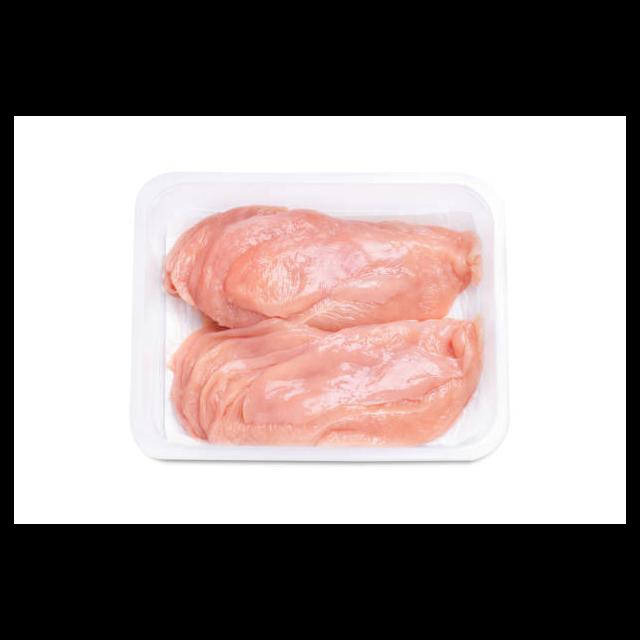chicken: (160, 203, 485, 450)
